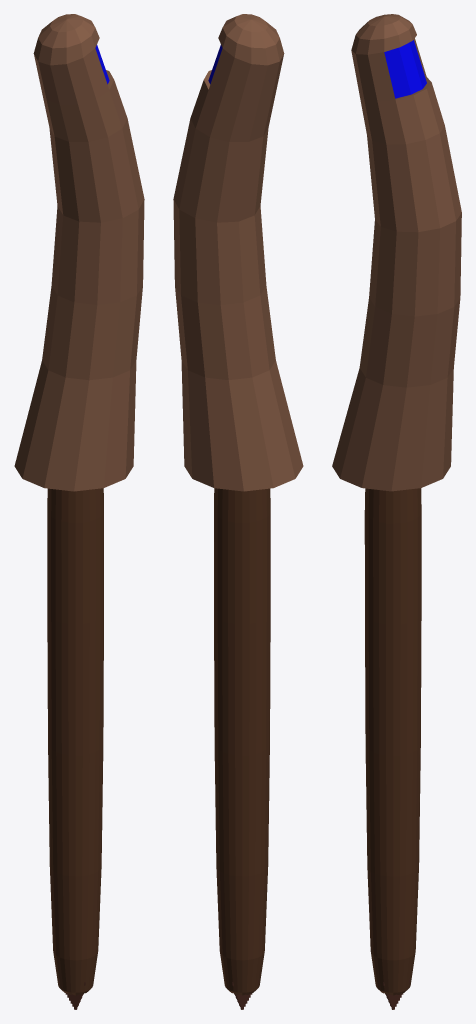
File: Wand 44.glb
The picture shows the model from 3 angles, left to right: view 1: azimuth 30°, elevation 25°; view 2: azimuth 150°, elevation 25°; view 3: azimuth 330°, elevation 25°; orthographic projection.
Parts seen in each view (by area): view 1: GeneratedWand; view 2: GeneratedWand; view 3: GeneratedWand.
Part boxes in pixels (x1=…): GeneratedWand: x1=14, y1=14, x2=144, y2=1009; GeneratedWand: x1=173, y1=14, x2=303, y2=1009; GeneratedWand: x1=332, y1=14, x2=461, y2=1009.
Size of the model in its own units: 0.0644 by 0.525 by 0.0572.
